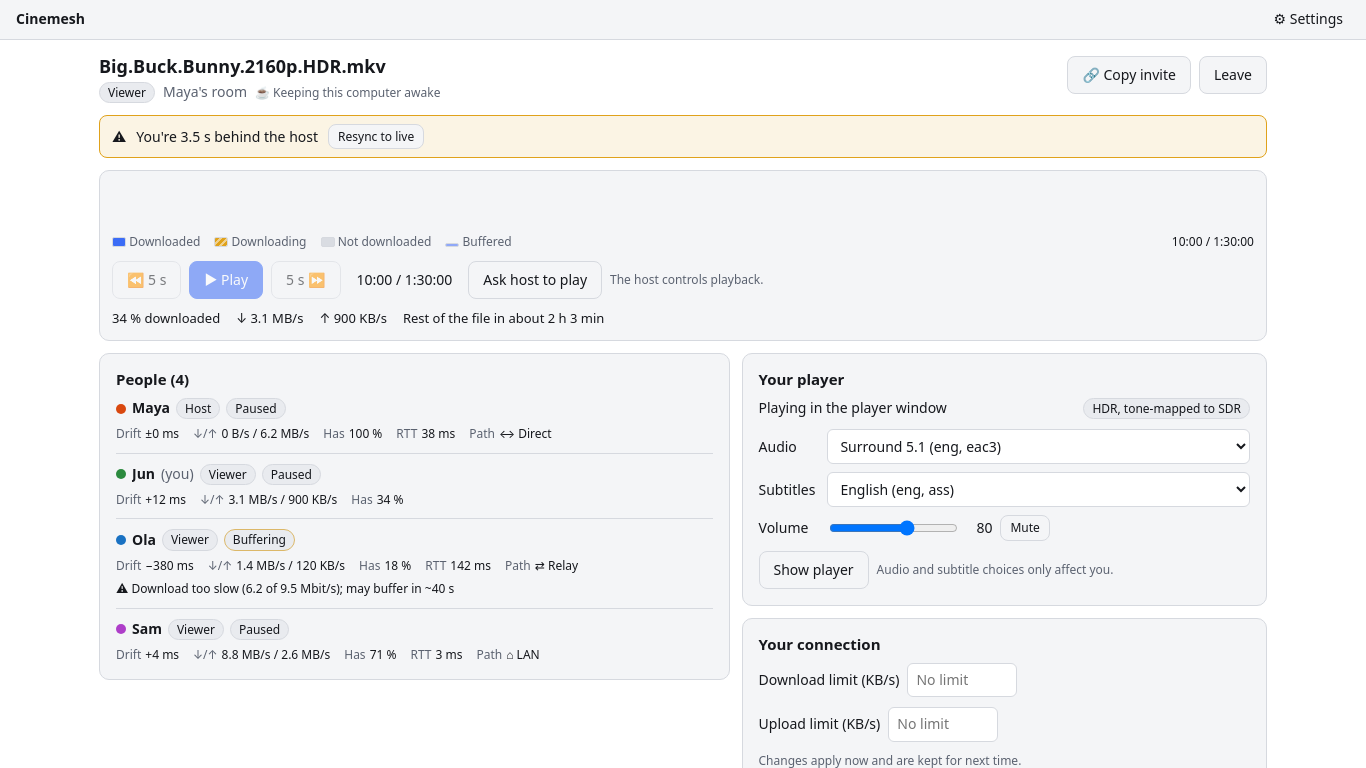
it: Room › Resync to live when there is nothing to do says so
Click the button "Resync to live".
click(376, 137)  # box [328,124,424,149]
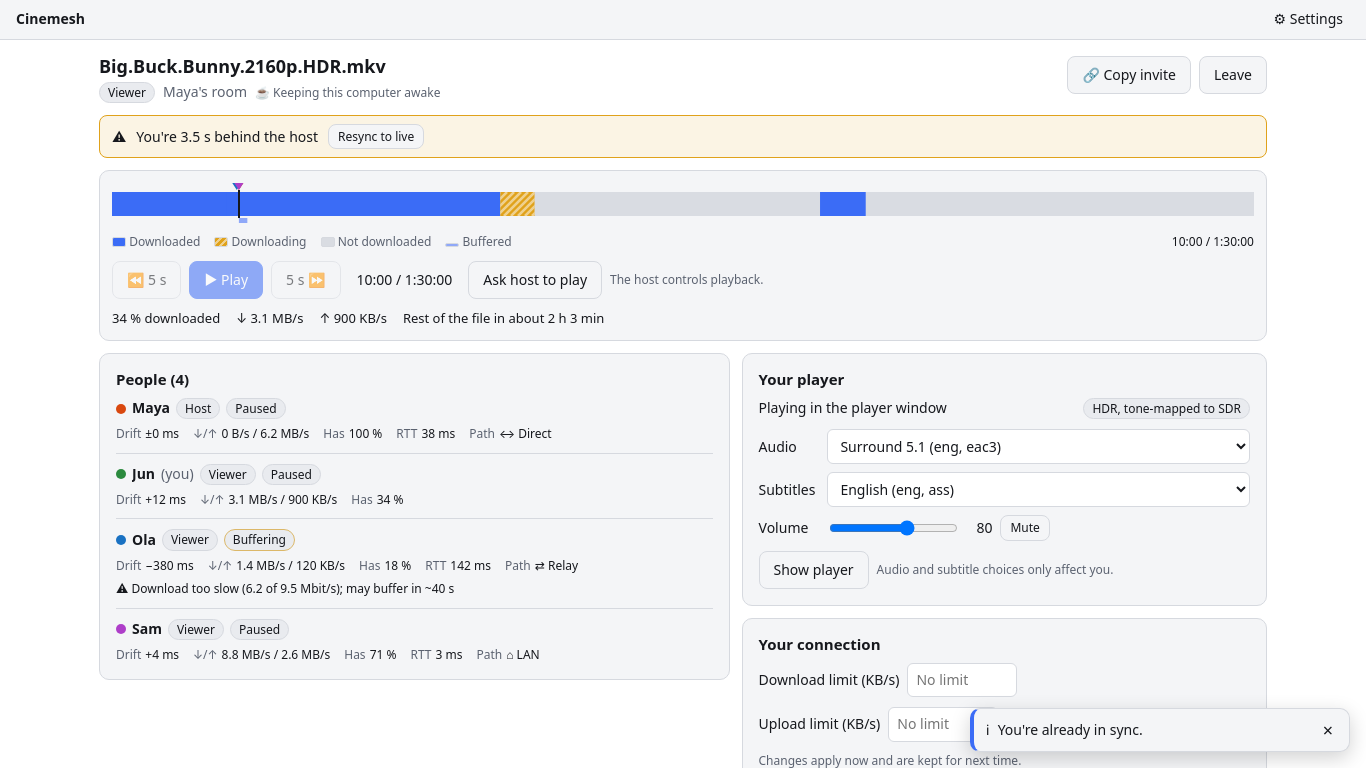
Result: the message "ℹ You're already in sync. ×" is shown at [970,708,1350,752]
